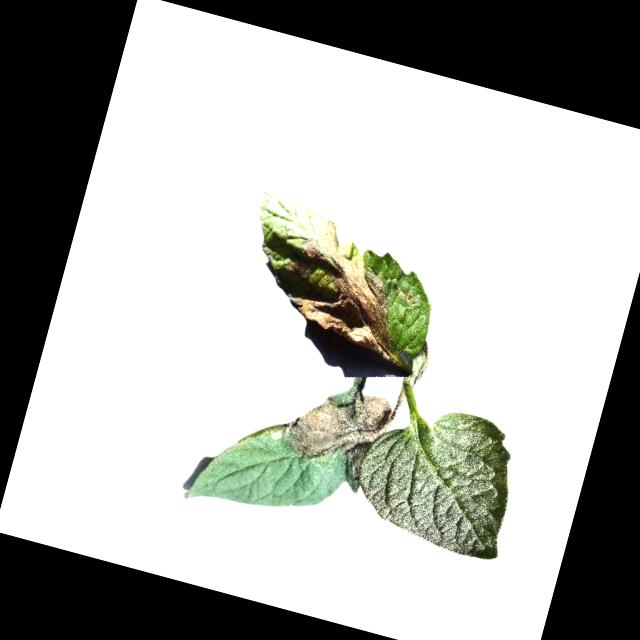Late_blight: (264, 211, 432, 366), (279, 374, 397, 480)
